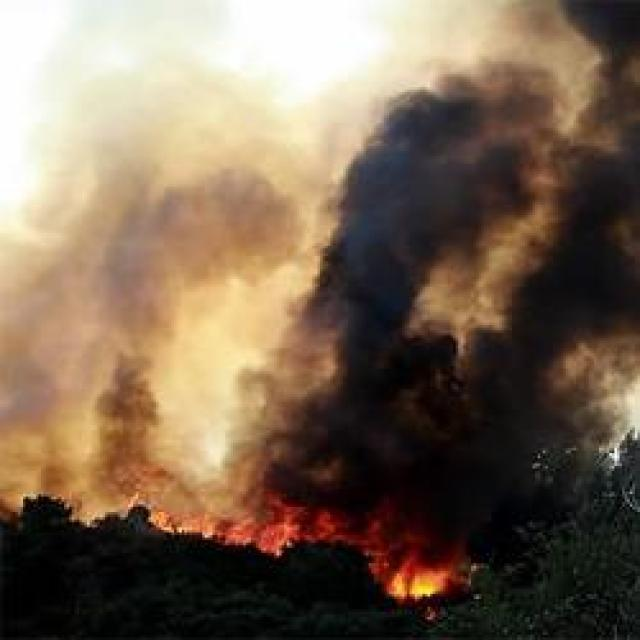Fire: (203, 512, 314, 545), (387, 552, 445, 602)
